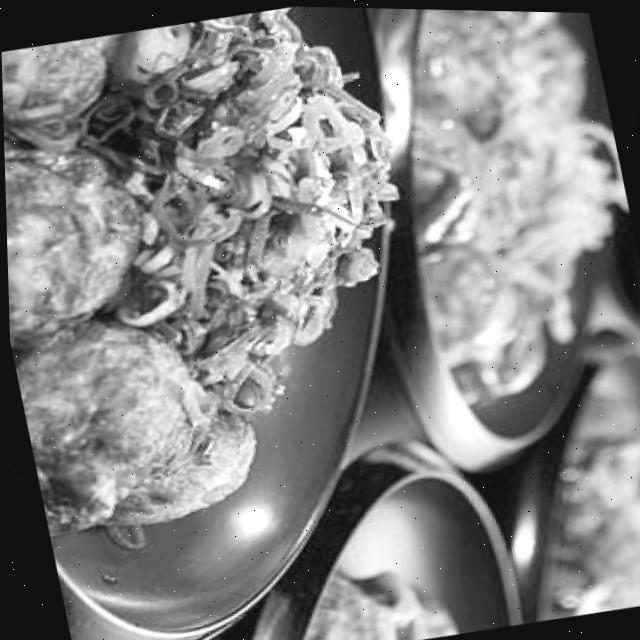炸货点心: (0, 0, 495, 640)
